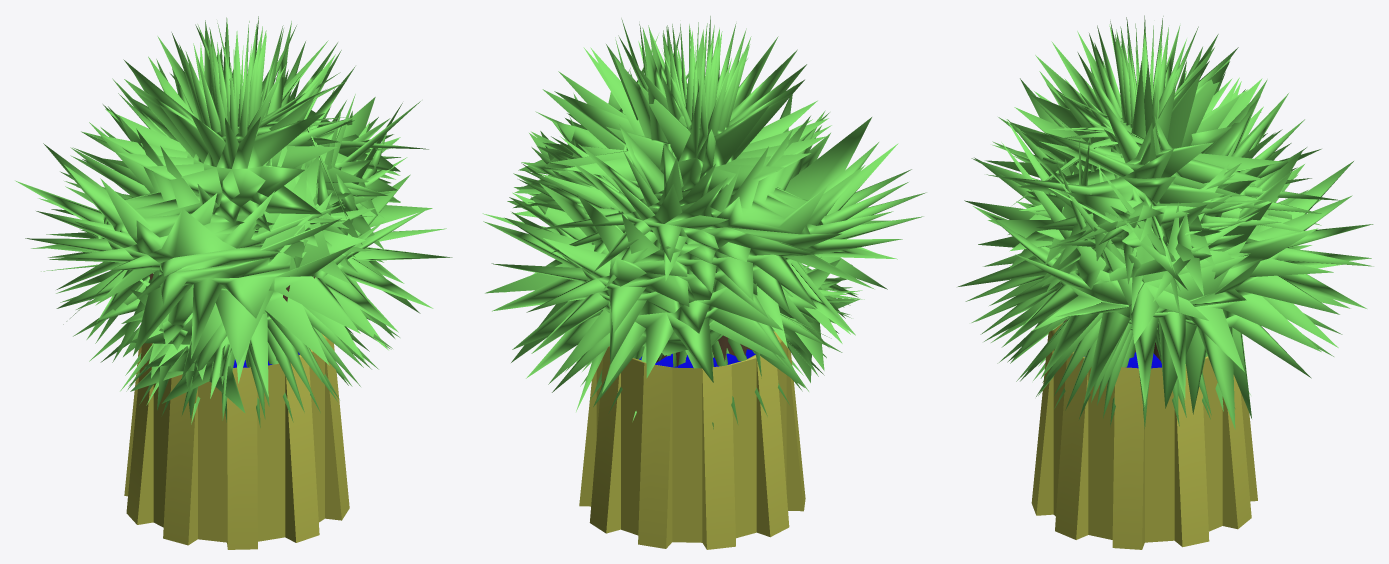
Rendered from PottedPlant2.fbx.
3 views of the same model, side by side, from view 1: azimuth 30°, elevation 25°; view 2: azimuth 150°, elevation 25°; view 3: azimuth 270°, elevation 25° (orthographic).
Visible parts, largest first — view 1: pCylinder2; view 2: pCylinder2; view 3: pCylinder2.
Part boxes in pixels (x1,y1,x2,y2): pCylinder2: (15,16,452,549); pCylinder2: (482,16,926,549); pCylinder2: (958,15,1373,549).
Bounding box in the file's own units: 4.84 × 5.42 × 4.36.
